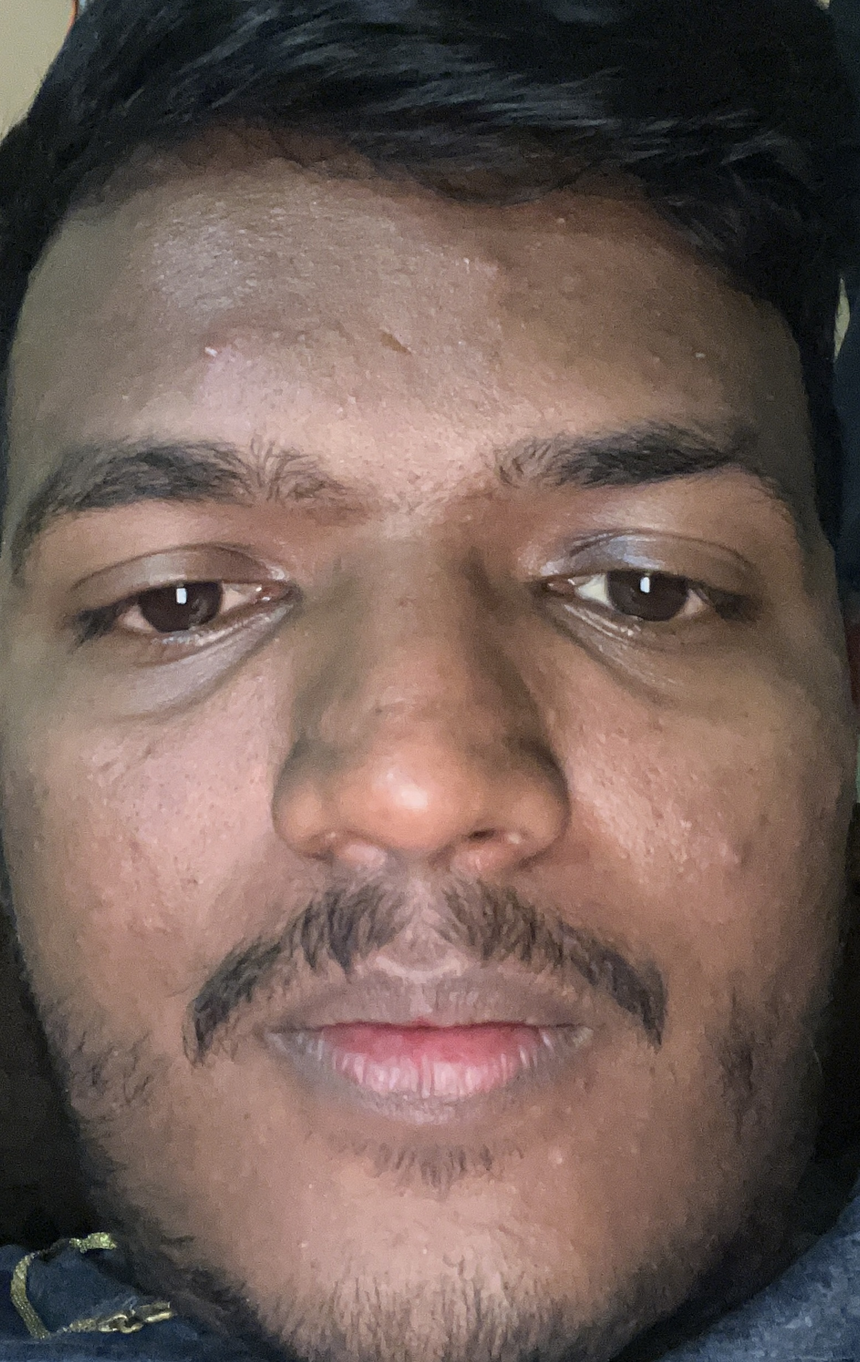papule: (470, 237, 531, 309), (691, 819, 765, 878)
pustule: (187, 314, 255, 377)
